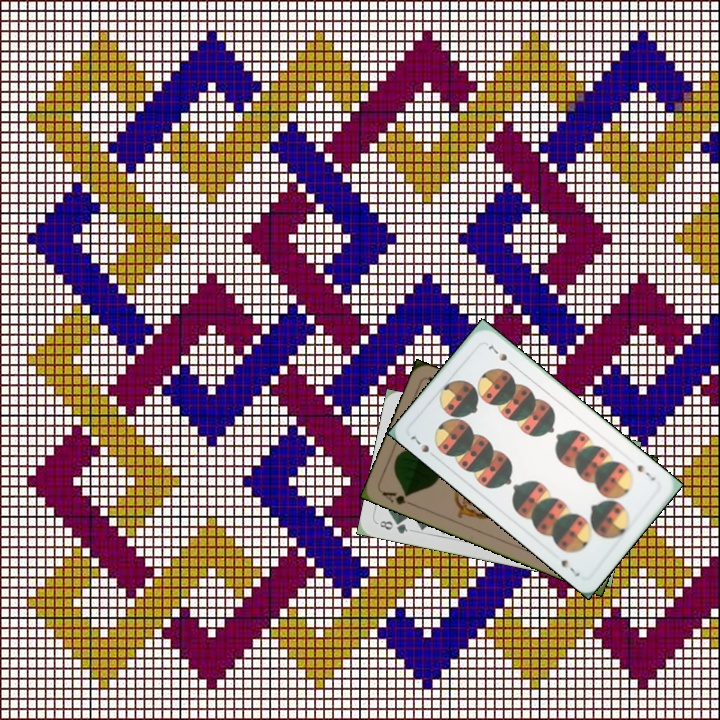G8: (375, 516, 410, 536)
GA: (378, 487, 417, 509)
S7: (406, 432, 432, 455), (632, 460, 658, 483)
